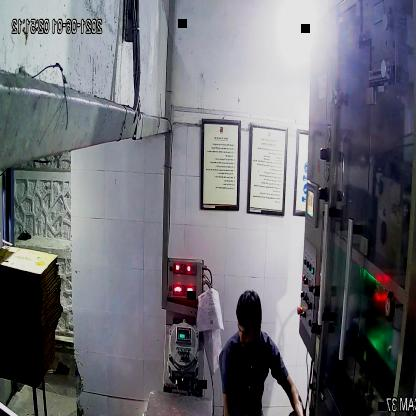no_goggles: (232, 319, 263, 343)
